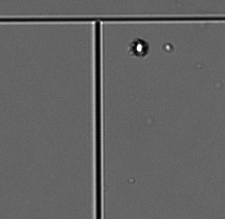Living Cell: (129, 38, 149, 58)
